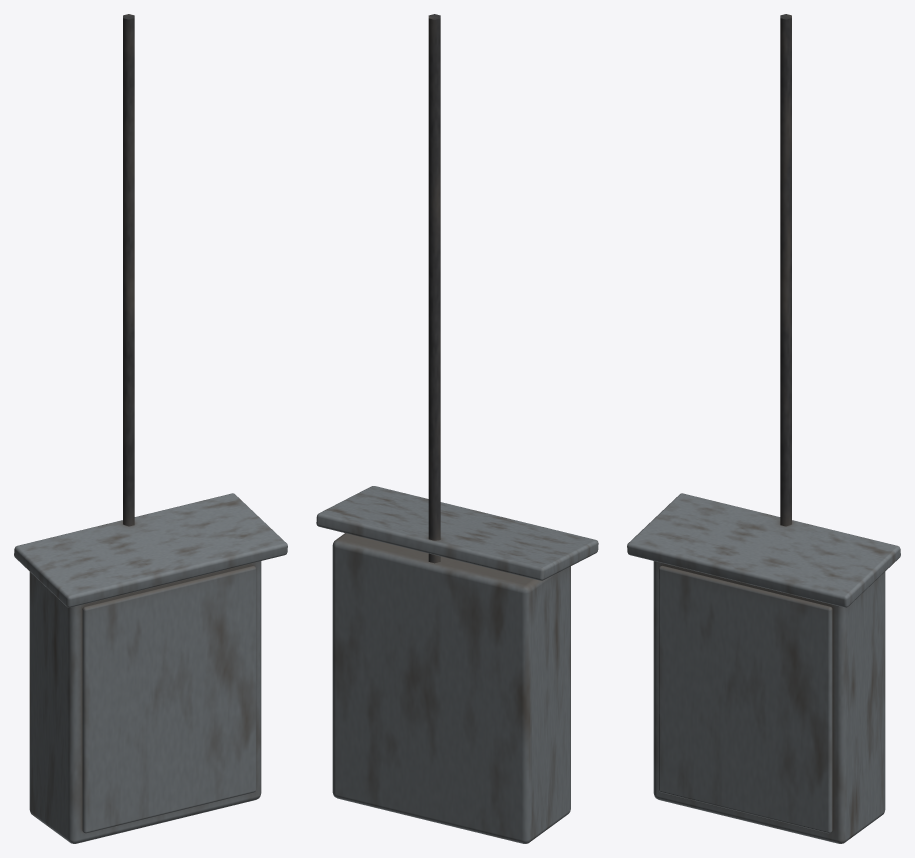
File: par_prad.glb
The picture shows the model from 3 angles, left to right: view 1: azimuth 30°, elevation 25°; view 2: azimuth 150°, elevation 25°; view 3: azimuth 330°, elevation 25°; orthographic projection. The views are drawn at different scales.
Parts seen in each view (by area): view 1: Prad; view 2: Prad; view 3: Prad.
Boxes of the visible parts, <box> form: Prad: <box>14,14,287,843</box>; Prad: <box>316,14,598,843</box>; Prad: <box>627,14,900,843</box>.
Bounding box in the file's own units: 0.46 × 1.55 × 0.2001.
Materials: 1 (1 with a texture image).
